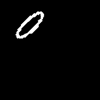chain: (16, 12, 43, 37)
